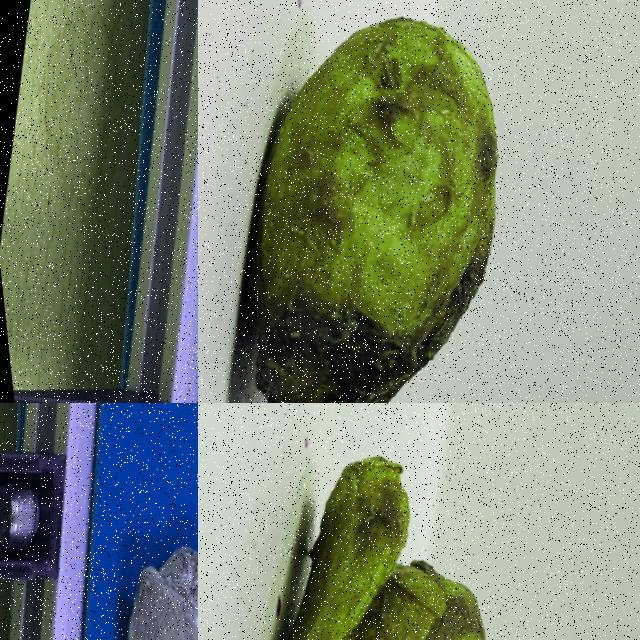Agglomerated_cocoabeans: (198, 0, 587, 402), (198, 403, 594, 639), (37, 439, 197, 639)
